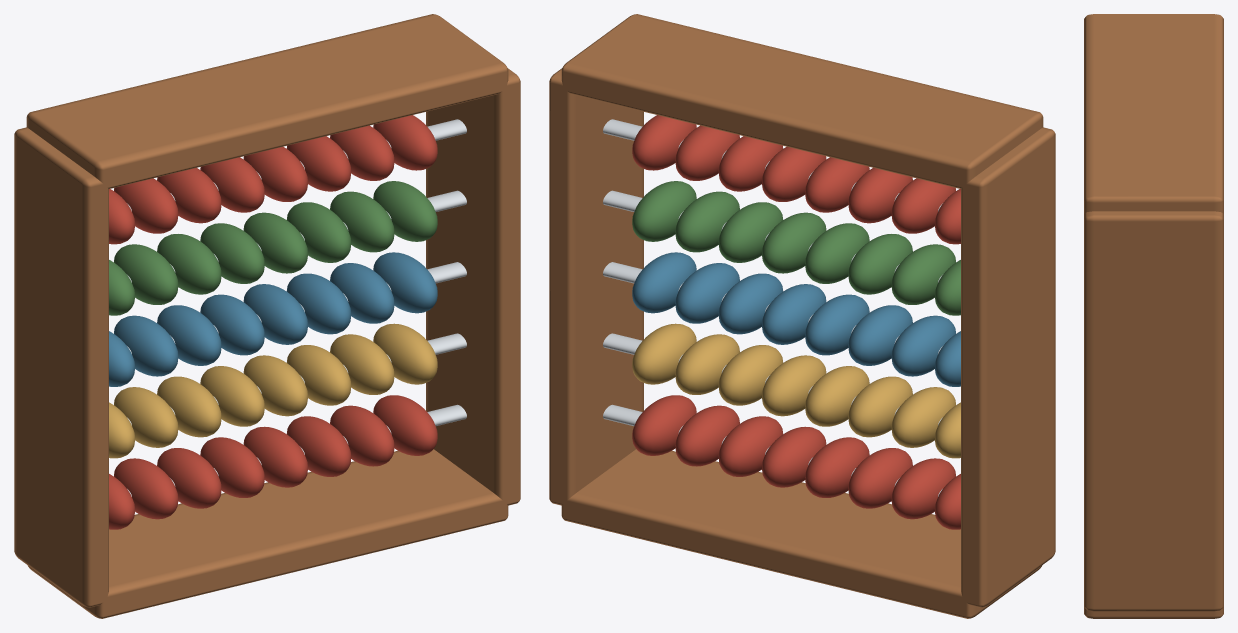
Rendered from wp-boulier.glb.
3 views of the same model, side by side, from view 1: azimuth 30°, elevation 25°; view 2: azimuth 150°, elevation 25°; view 3: azimuth 270°, elevation 25° (orthographic). The views are drawn at different scales.
Visible parts, largest first — view 1: wp-boulier; view 2: wp-boulier; view 3: wp-boulier.
Boxes of the visible parts, x1,y1,x2,y2 form: wp-boulier: [14, 14, 520, 618]; wp-boulier: [549, 14, 1055, 618]; wp-boulier: [1084, 14, 1223, 618].
Size of the model in its own units: 0.4 by 0.4 by 0.12.
